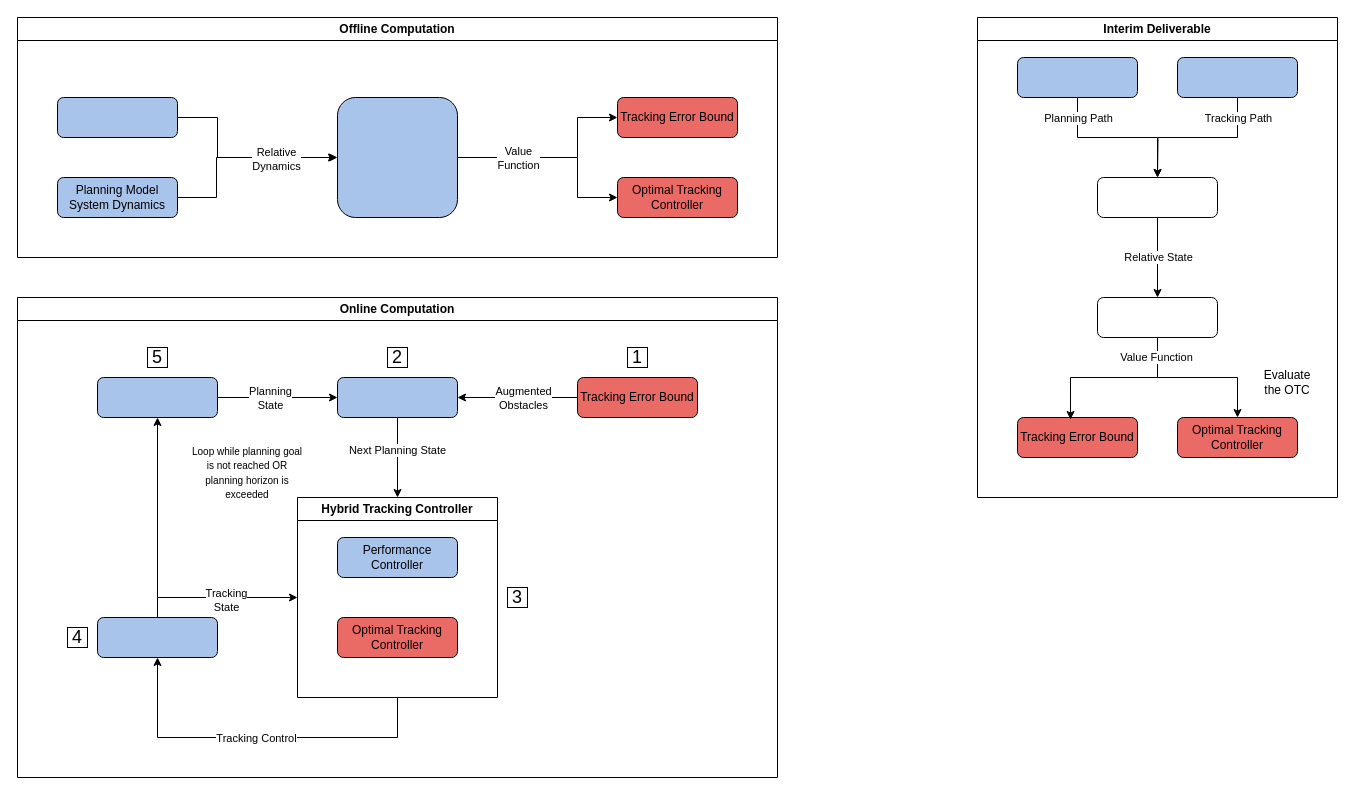
Some shapes in this 1355 by 795 pixel diagram are drawn without their labels. Each missing label, with the centre of its shape:
"Hamilton-Jacobi Variational Inequality (OptimizedDP)" belongs at point 397,157.
"OptimizedDP ROS2 Node" belongs at point 1157,317.
"Planner Server" belongs at point 1077,77.
"Planning Algorithm" belongs at point 397,397.
"Planning Model" belongs at point 157,397.
"Relative State ROS2 Node" belongs at point 1157,197.
"Tracking Model" belongs at point 157,637.
"Tracking Model System Dynamics" belongs at point 117,117.
"TurtleBot3 / Dummy Path" belongs at point 1237,77.
